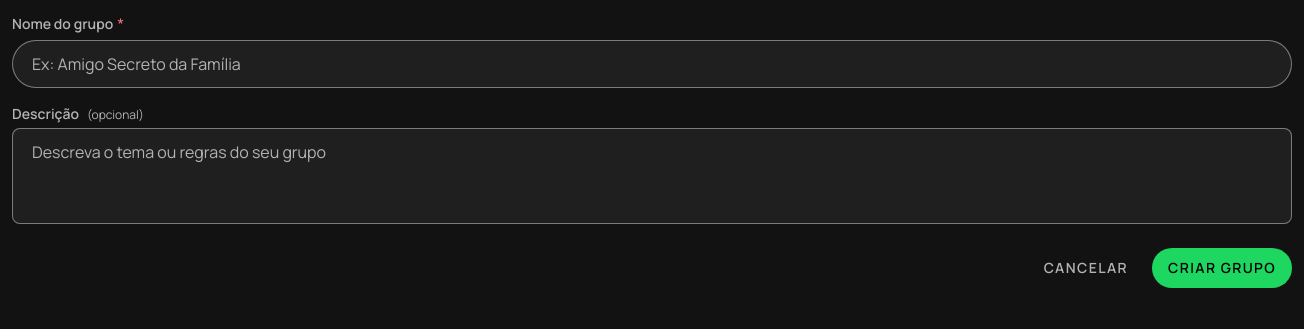
Test: CreateGroupForm › clears the error when typing in the name field again
The width and height of the screenshot is (1304, 329).
Click the button "Criar grupo": click(1222, 268) left=1152, top=248, right=1292, bottom=288
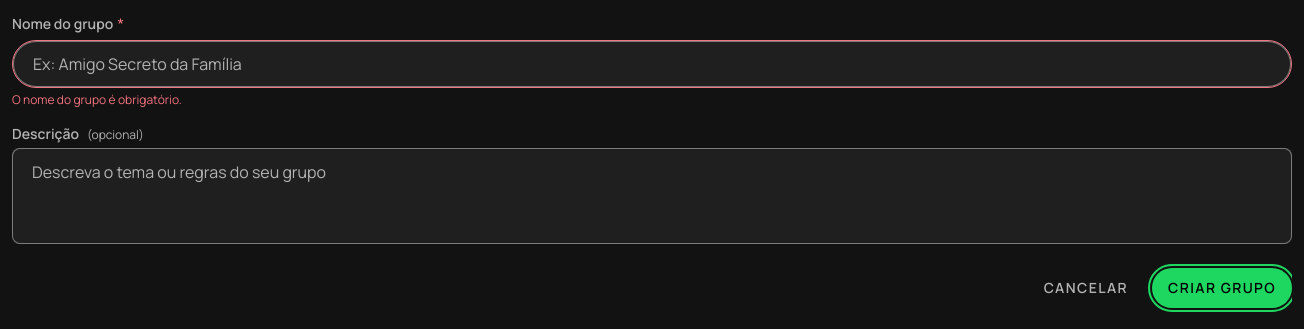
Now the text "O nome do grupo é obrigatório." is shown, box left=12, top=91, right=182, bottom=108
In the field labelled "Nome do grupo": (652, 64) left=12, top=40, right=1292, bottom=88, type "F"
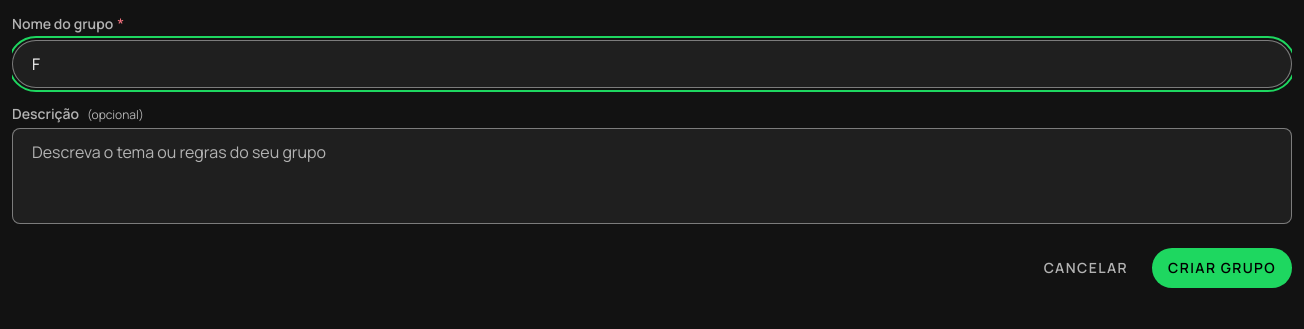
Now the text "O nome do grupo é obrigatório." is gone
